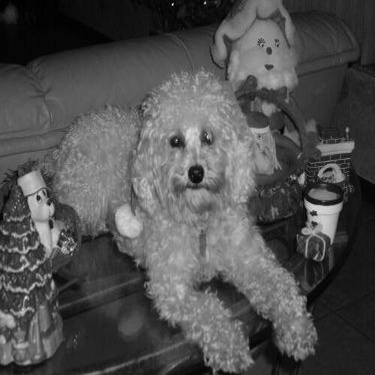dog: (34, 59, 323, 372)
